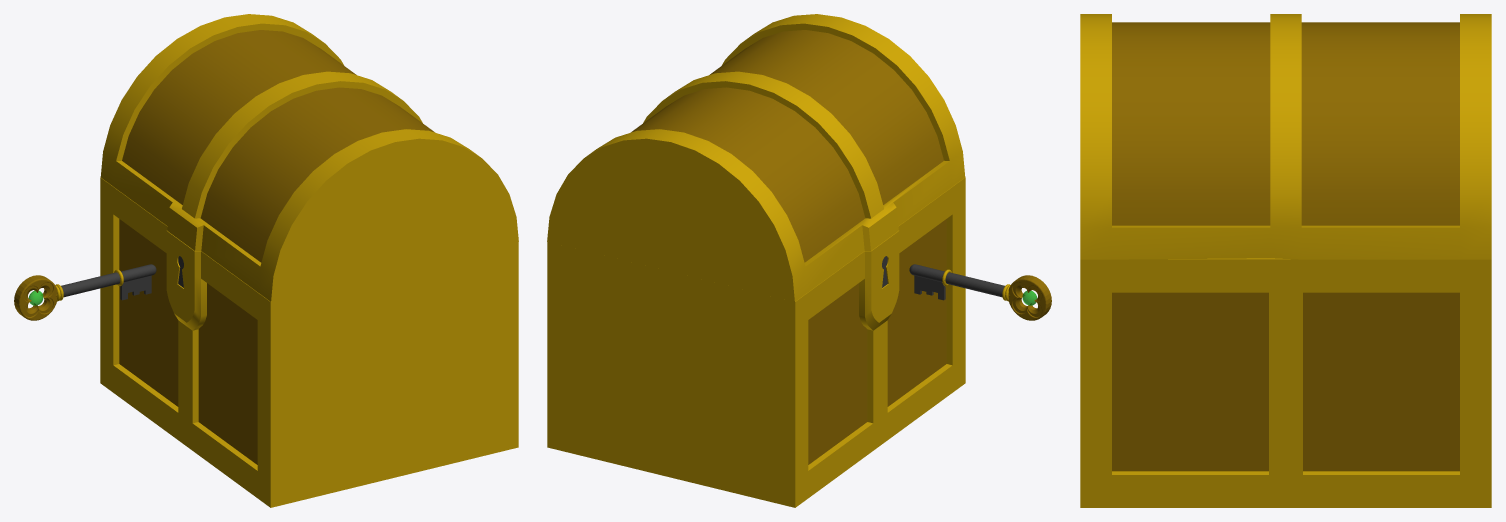
The model's file is TreasureBox.fbx.
3 views of the same model, side by side, from view 1: azimuth 30°, elevation 25°; view 2: azimuth 150°, elevation 25°; view 3: azimuth 270°, elevation 25° (orthographic). The views are drawn at different scales.
Visible parts, largest first — view 1: Box, Cover, Key; view 2: Box, Cover, Key; view 3: Box, Cover.
Boxes of the visible parts, x1,y1,x2,y2 form: Box: [100, 177, 518, 507]; Cover: [100, 14, 518, 301]; Key: [14, 264, 156, 320]; Box: [547, 177, 965, 507]; Cover: [547, 14, 965, 301]; Key: [909, 264, 1051, 320]; Box: [1080, 258, 1491, 507]; Cover: [1080, 14, 1491, 259].
Bounding box in the file's own units: 424 × 326 × 300.
